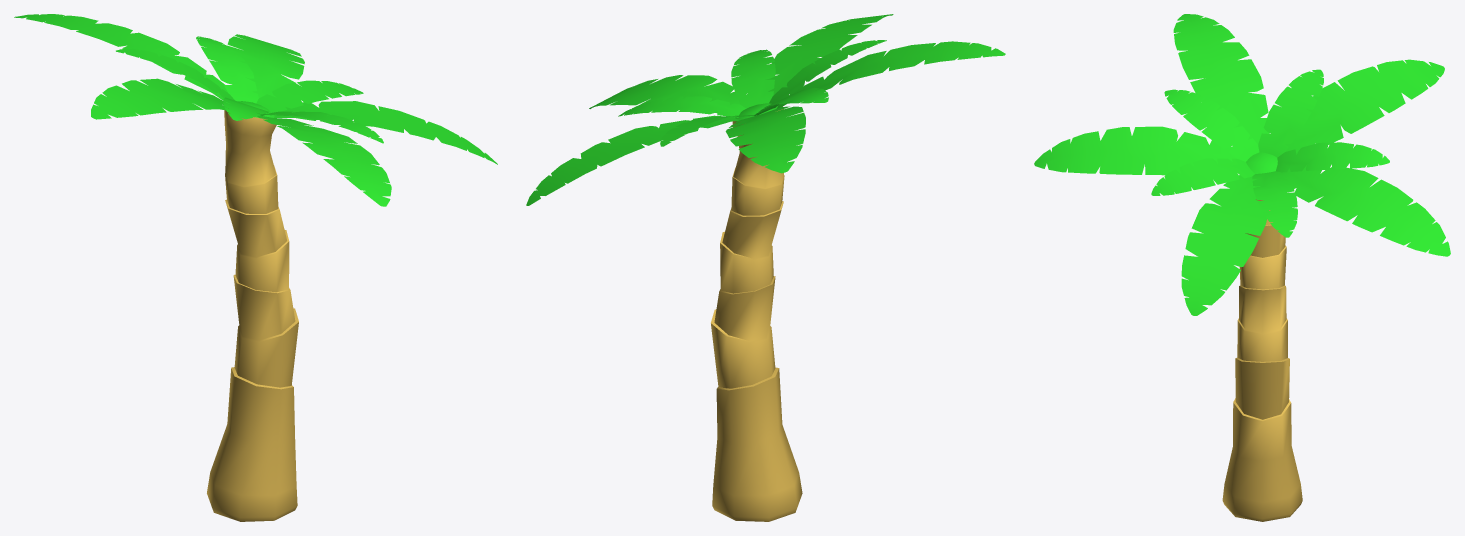
The model's file is PalmTreeSingle.fbx.
3 renders of one model, left to right at view 1: azimuth 30°, elevation 25°; view 2: azimuth 150°, elevation 25°; view 3: azimuth 270°, elevation 25°, orthographic. The views are drawn at different scales.
Parts seen in each view (by area): view 1: Tronc; view 2: Tronc; view 3: Tronc.
Part boxes in pixels (bbox=[...]): Tronc: bbox=[14, 14, 497, 521]; Tronc: bbox=[526, 14, 1005, 521]; Tronc: bbox=[1034, 14, 1450, 521].
Size of the model in its own units: 881 by 972 by 899.
